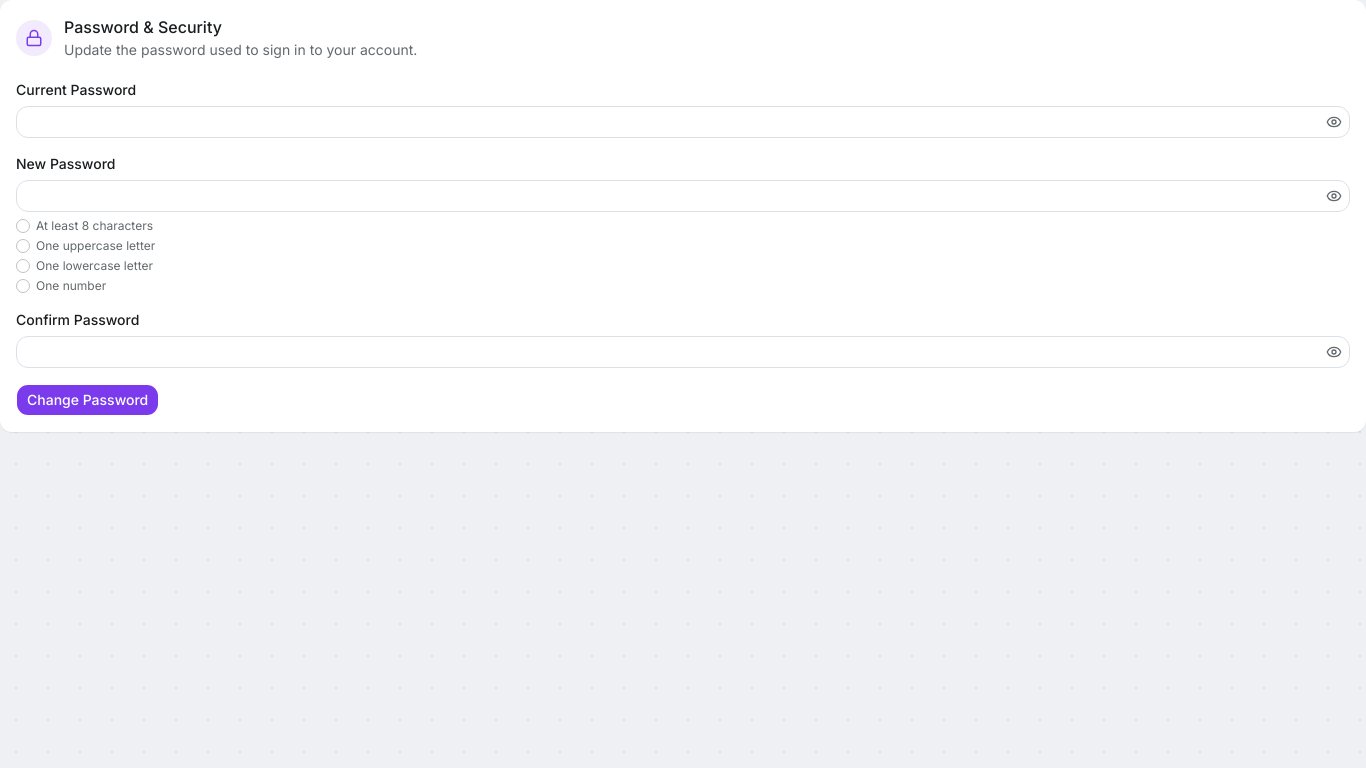
Test: ChangePasswordForm › falls back to a generic error message for an unrecognized/server failure
In the password field labelled "Current Password": (683, 122) 16,106 -> 1350,138, type "current-pass"
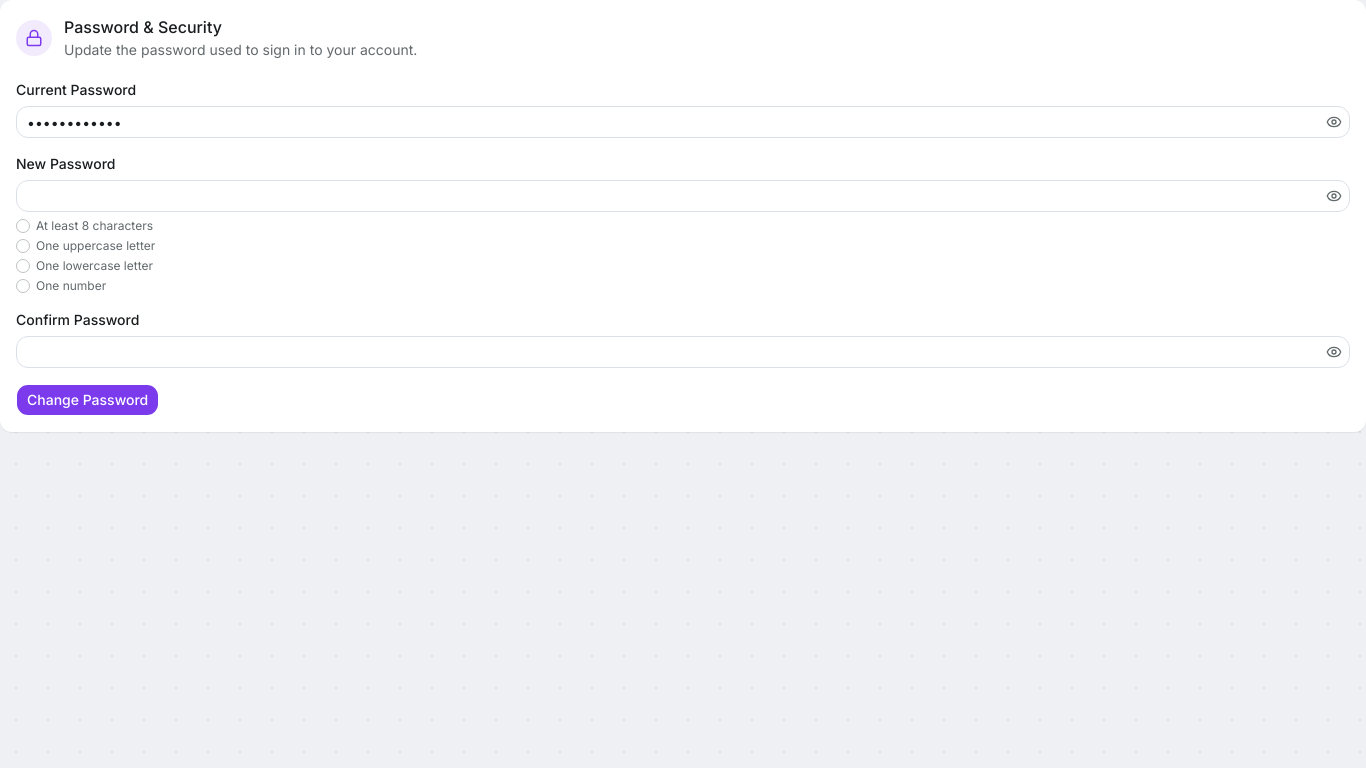
In the password field labelled "New Password": (683, 196) 16,180 -> 1350,212, type "Newpassword1"
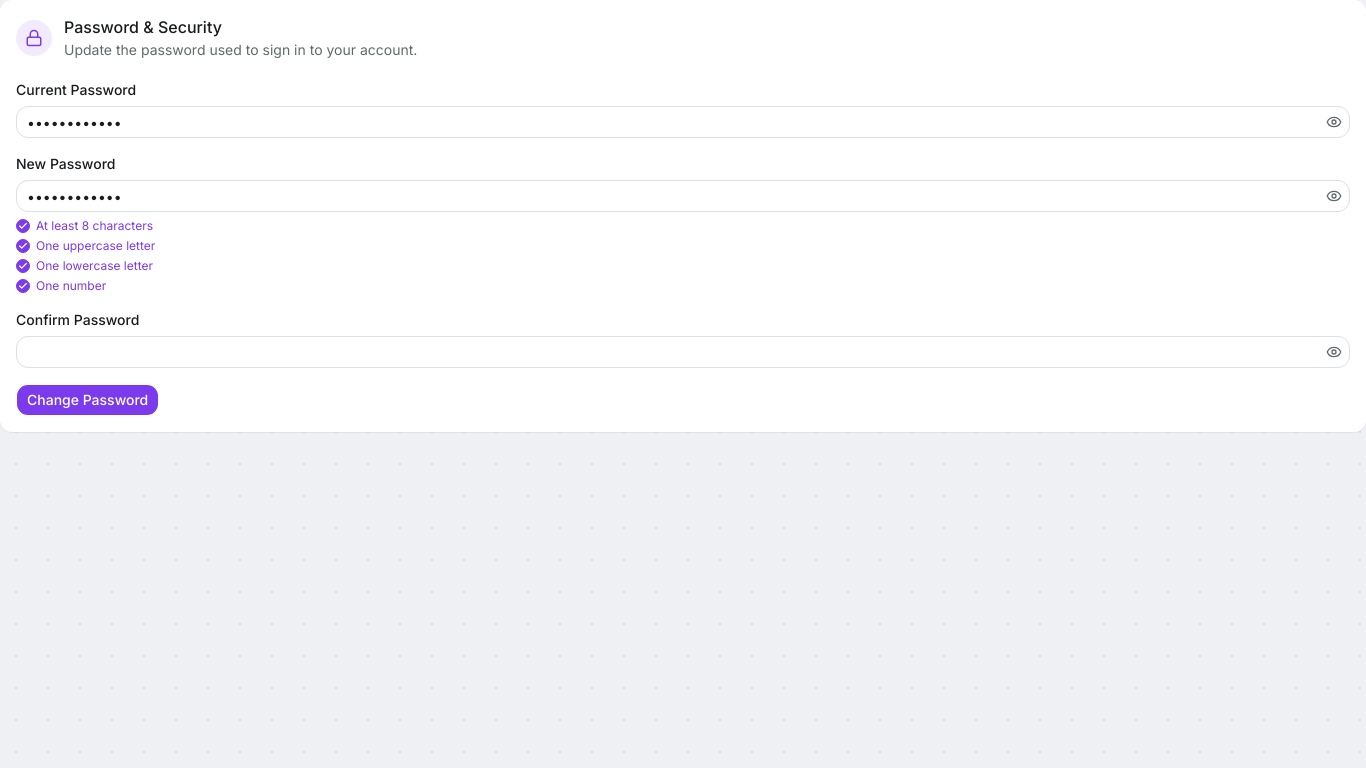
In the password field labelled "Confirm Password": (683, 352) 16,336 -> 1350,368, type "Newpassword1"
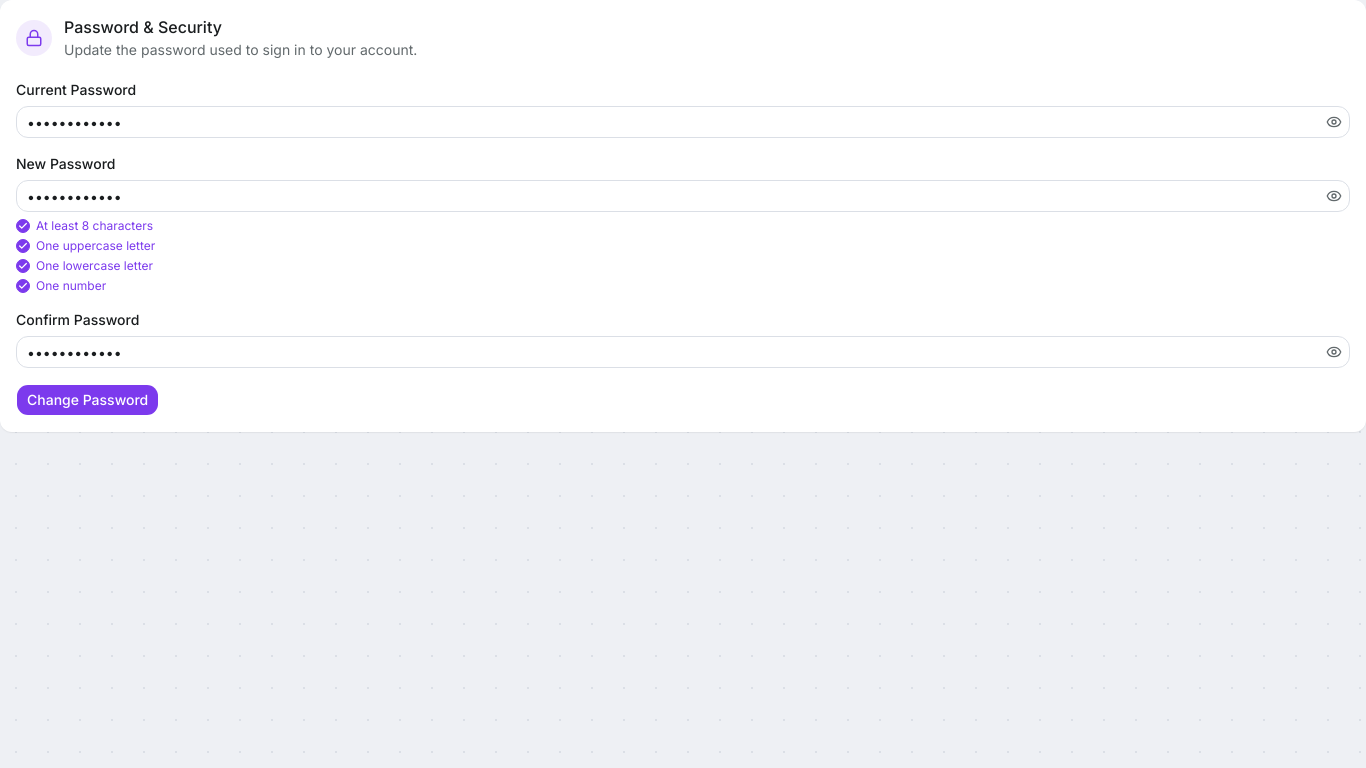
Click the button "Change Password": (88, 400) 16,384 -> 159,416
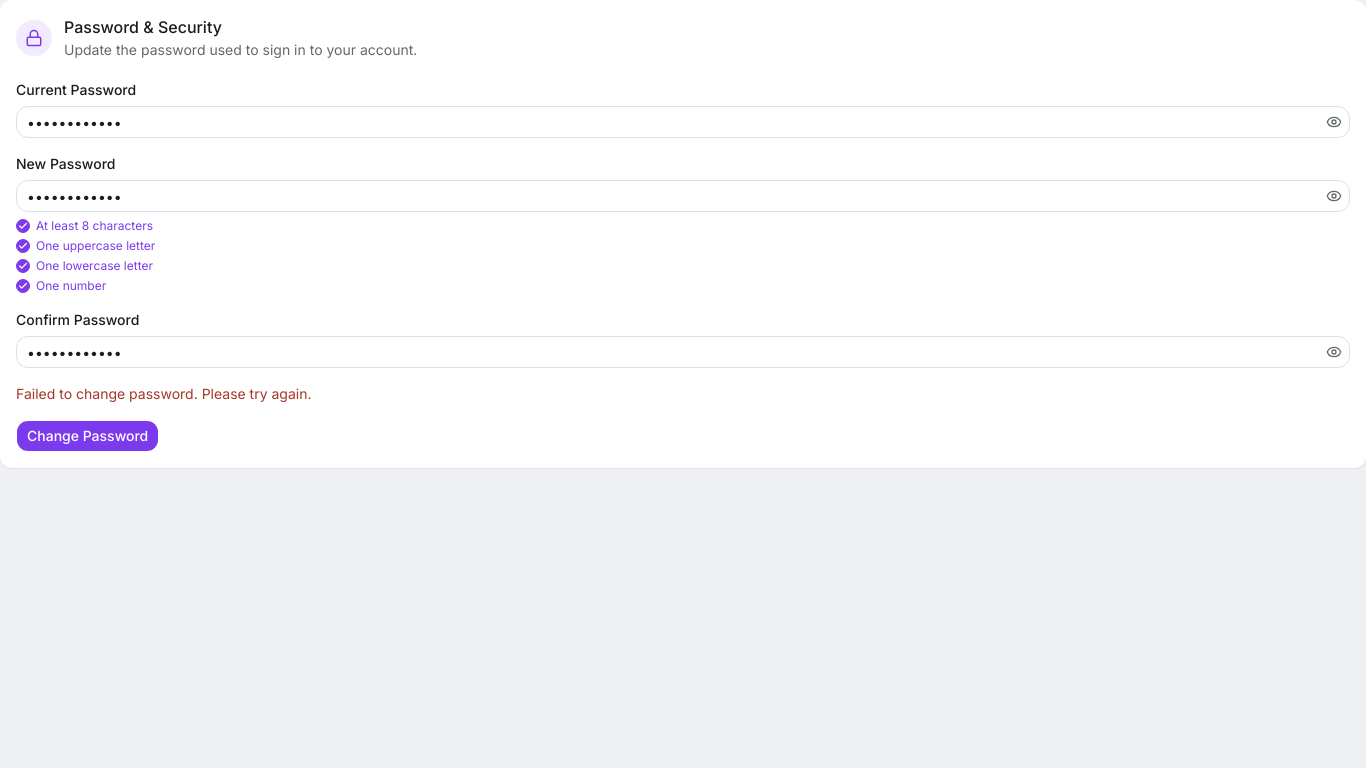
Result: the text "Failed to change password. Please try again." is shown at 16,385 -> 312,402
